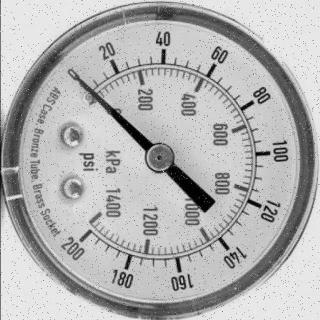gauge: (0, 0, 320, 320), (55, 202, 104, 261), (60, 59, 110, 112), (144, 143, 176, 173), (66, 69, 84, 87)
